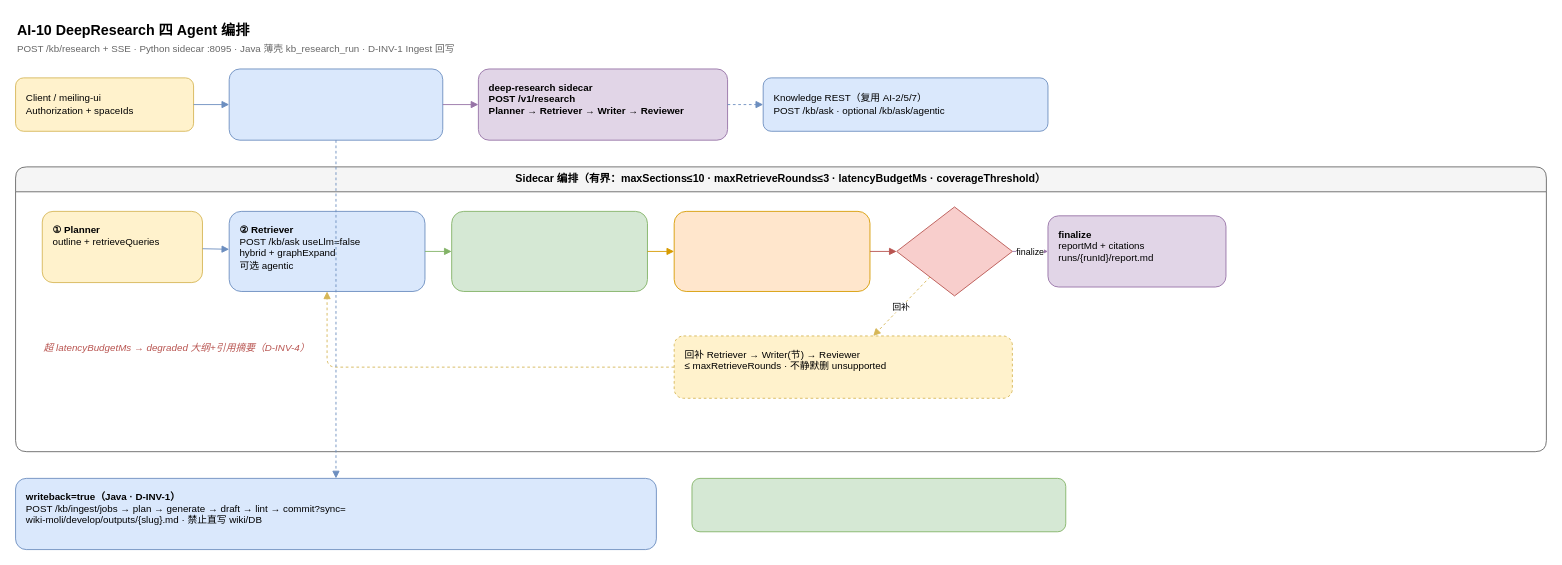
The diagram is 1562 pixels wide and 565 high, and some of its shapes have lost their labels. Here are the shapes that lost their labels. From the top down, the centre of each, then its label:
point 335,104: KbResearchServiceImpl InputGuard (AI-9) · ACL · SSE kb_research_run trace
point 549,250: ③ Writer 分节 Markdown + [[slug]] frontmatter type=output
point 771,250: ④ Reviewer AI-7 self_check 口径 coverage / unsupported / gaps
point 954,251: accept? gaps 且 round < max?
point 878,504: smoke.py · 同主题二次运行 slug 集合对比 docs/design/contracts/AI-10-contract.md §6
